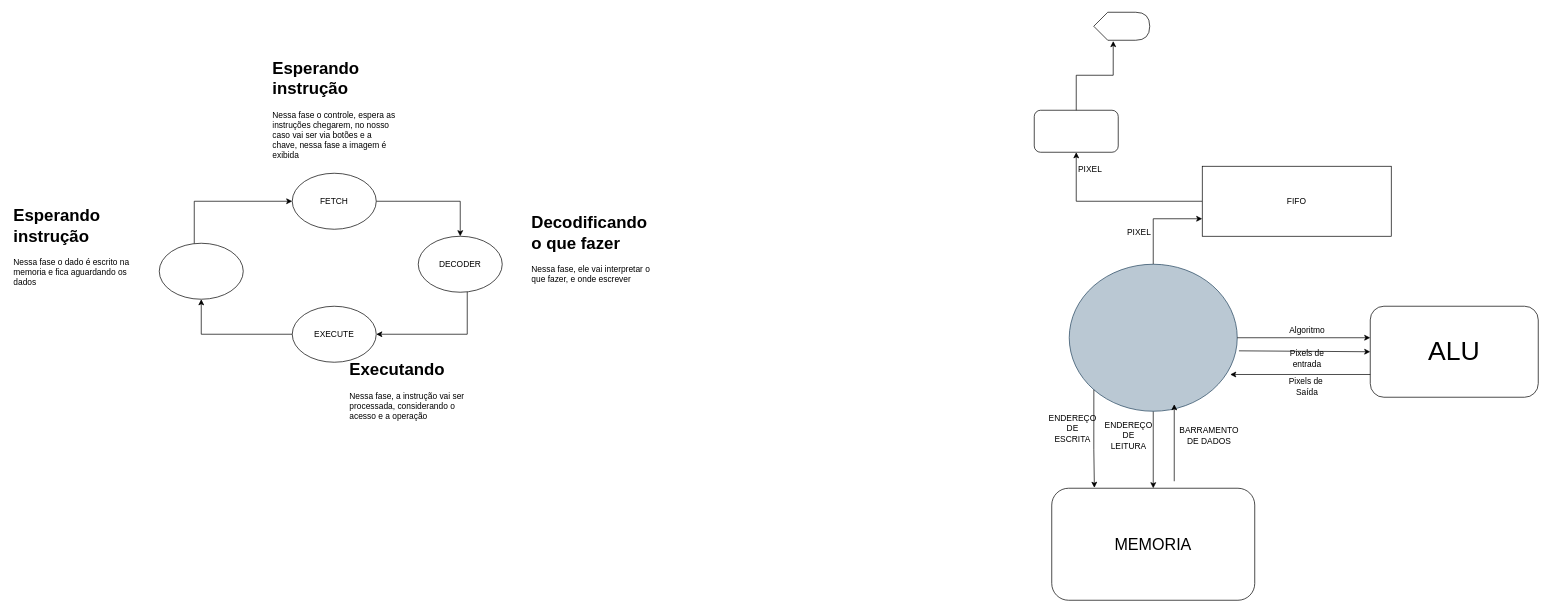
Some shapes in this 1551 by 613 pixel diagram are drawn without their labels. Here are the shapes that lost their labels. From the top down, the centre of each, then its label:
At point (1076, 131): "OUTPUT (VGA)".
At point (201, 271): "WRITE".
At point (1153, 337): "CONTROL".
